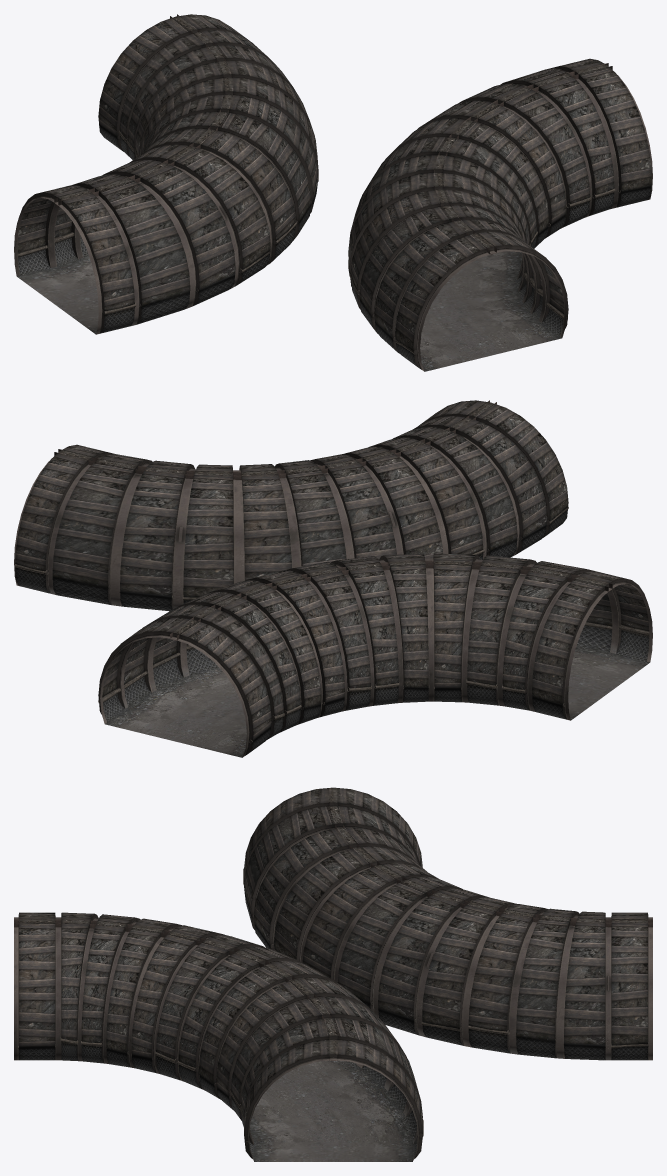
Rendered from tunnel_tile_3.dae.
3 renders of one model, top to bottom at view 1: azimuth 30°, elevation 25°; view 2: azimuth 150°, elevation 25°; view 3: azimuth 270°, elevation 25°, orthographic.
Visible parts, largest first — view 1: FBXASC0570DegTwo; view 2: FBXASC0570DegTwo; view 3: FBXASC0570DegTwo.
Boxes of the visible parts, box(x1,y1,x2,y2) form: FBXASC0570DegTwo: box(14, 14, 652, 371); FBXASC0570DegTwo: box(14, 400, 652, 757); FBXASC0570DegTwo: box(14, 787, 652, 1161).
Size of the model in its own units: 2000 by 2000 by 366.
